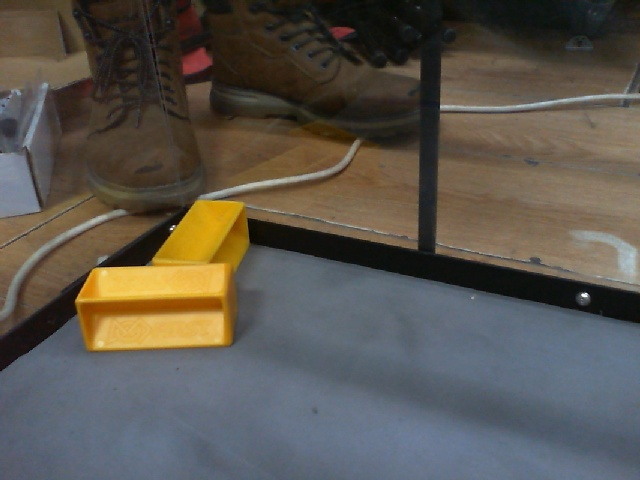YellowSample: (69, 263, 245, 353), (145, 192, 254, 292)
